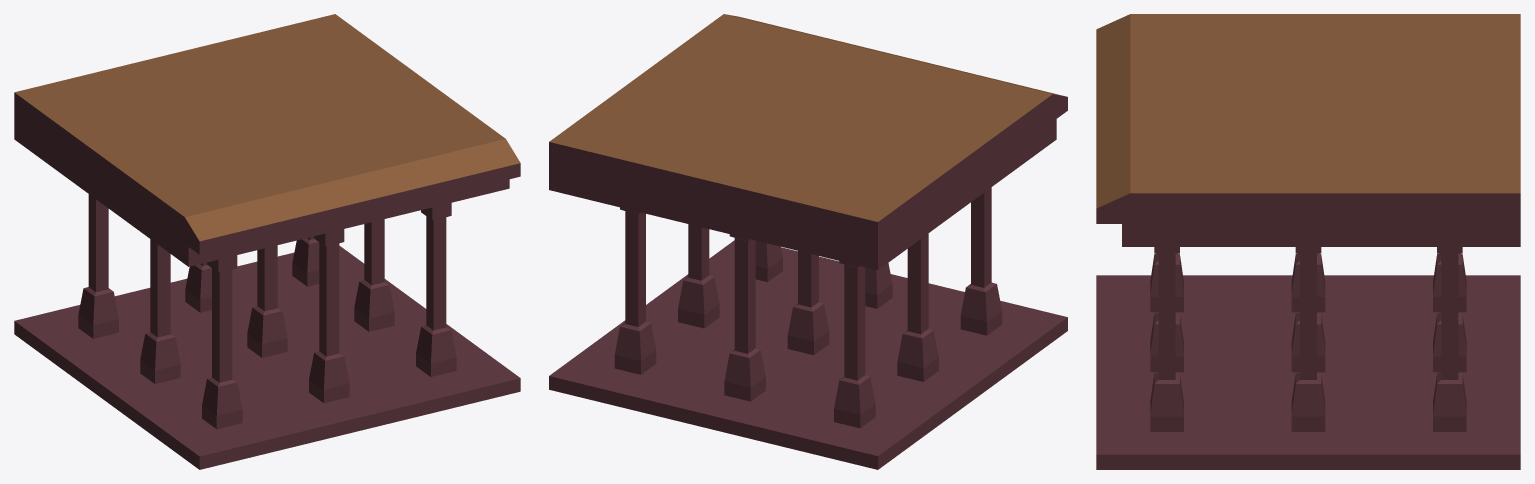
The model's file is hindu-pillars-side.fbx.
The picture shows the model from 3 angles, left to right: view 1: azimuth 30°, elevation 25°; view 2: azimuth 150°, elevation 25°; view 3: azimuth 270°, elevation 25°; orthographic projection. The views are drawn at different scales.
Visible parts, largest first — view 1: hindu-pillars-side; view 2: hindu-pillars-side; view 3: hindu-pillars-side.
Part boxes in pixels (box(x1,y1,x2,y2)): hindu-pillars-side: box(14, 14, 520, 469); hindu-pillars-side: box(549, 14, 1067, 469); hindu-pillars-side: box(1096, 14, 1520, 469).
Size of the model in its own units: 5 by 3.6 by 5.
